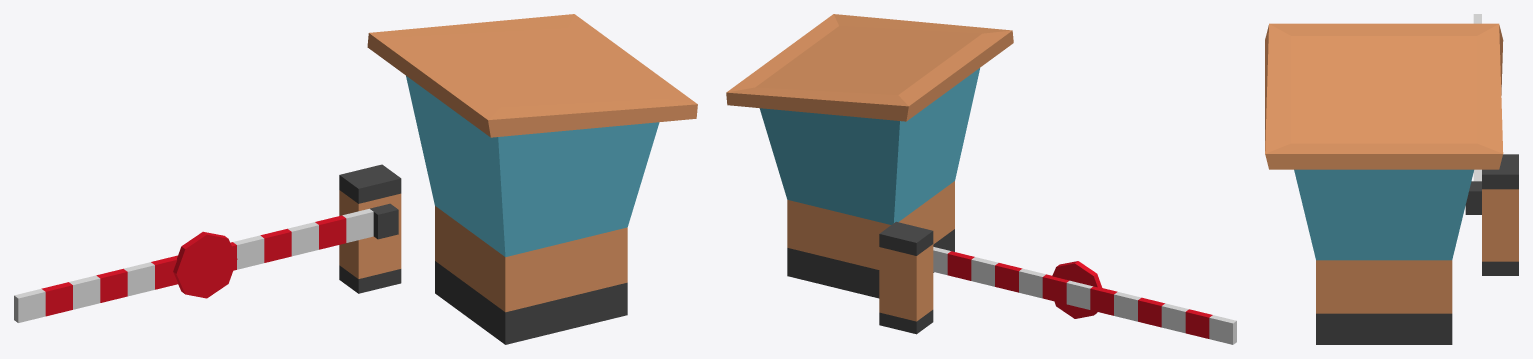
File: checkpoint.fbx
3 renders of one model, left to right at view 1: azimuth 30°, elevation 25°; view 2: azimuth 150°, elevation 25°; view 3: azimuth 270°, elevation 25°, orthographic. The views are drawn at different scales.
Parts seen in each view (by area): view 1: checkpoint; view 2: checkpoint; view 3: checkpoint.
Boxes of the visible parts, x1,y1,x2,y2 form: checkpoint: [14, 14, 697, 344]; checkpoint: [726, 14, 1236, 344]; checkpoint: [1265, 14, 1518, 344].
Size of the model in its own units: 1873 by 791 by 746.
